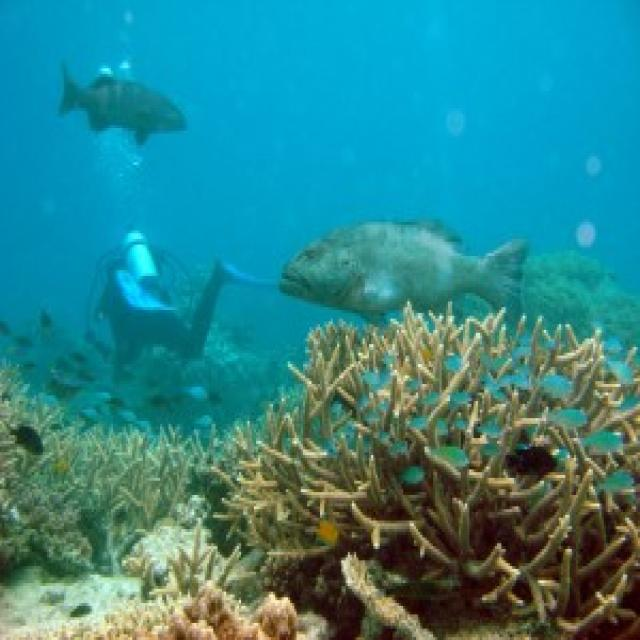Healthy: (214, 305, 639, 638), (1, 365, 204, 576), (10, 522, 308, 638), (161, 587, 295, 638), (127, 541, 159, 581)
